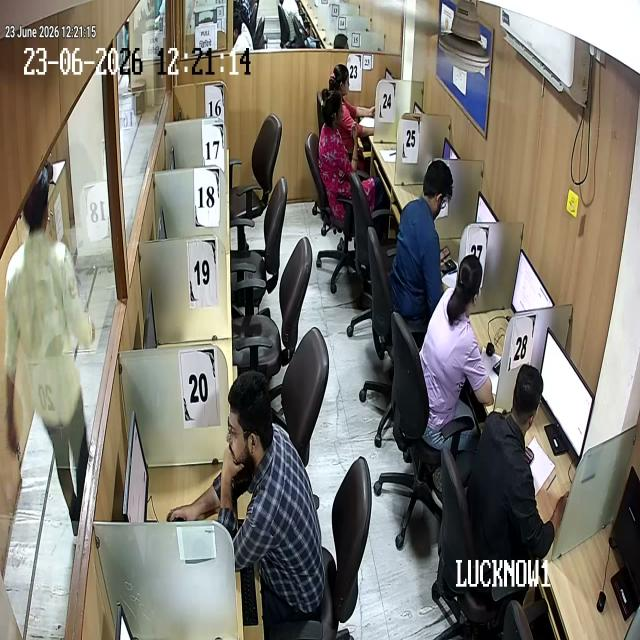phone: (440, 239, 458, 264)
